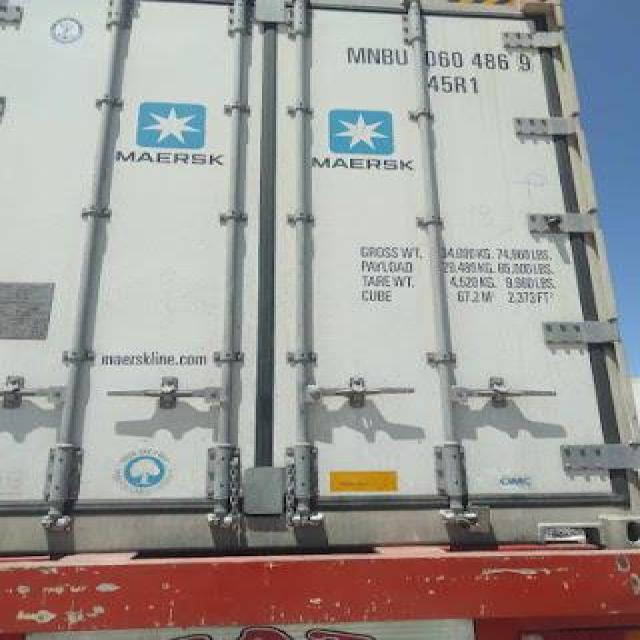ISO: (432, 74, 484, 96)
container_number: (350, 50, 528, 70)
